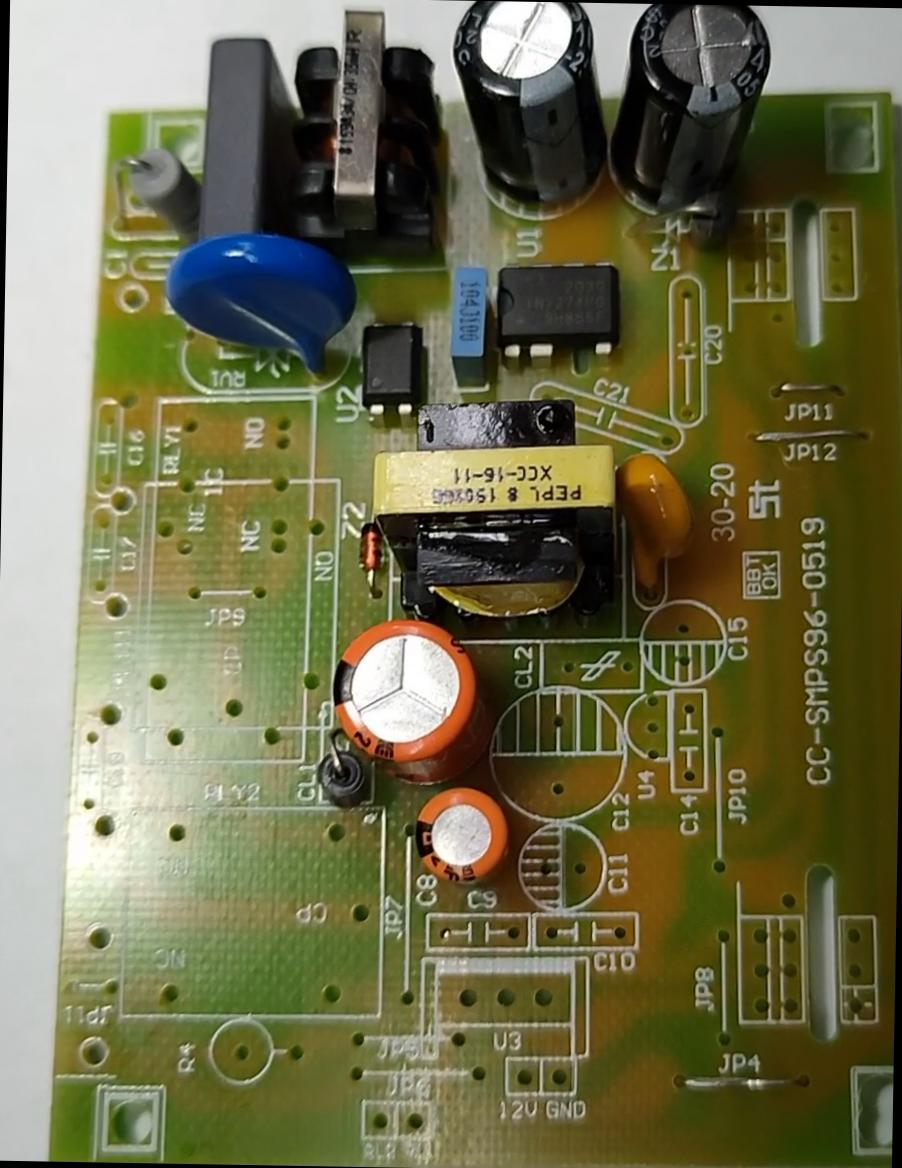Cap1: (324, 611, 490, 781)
Cap2: (408, 779, 511, 895)
Cap3: (431, 1, 622, 220)
Cap4: (615, 3, 772, 228)
MOSFET: (489, 253, 633, 370)
Mov: (156, 230, 364, 392)
Resistor: (120, 137, 202, 228)
Transformer: (362, 386, 630, 632), (263, 2, 439, 256)
